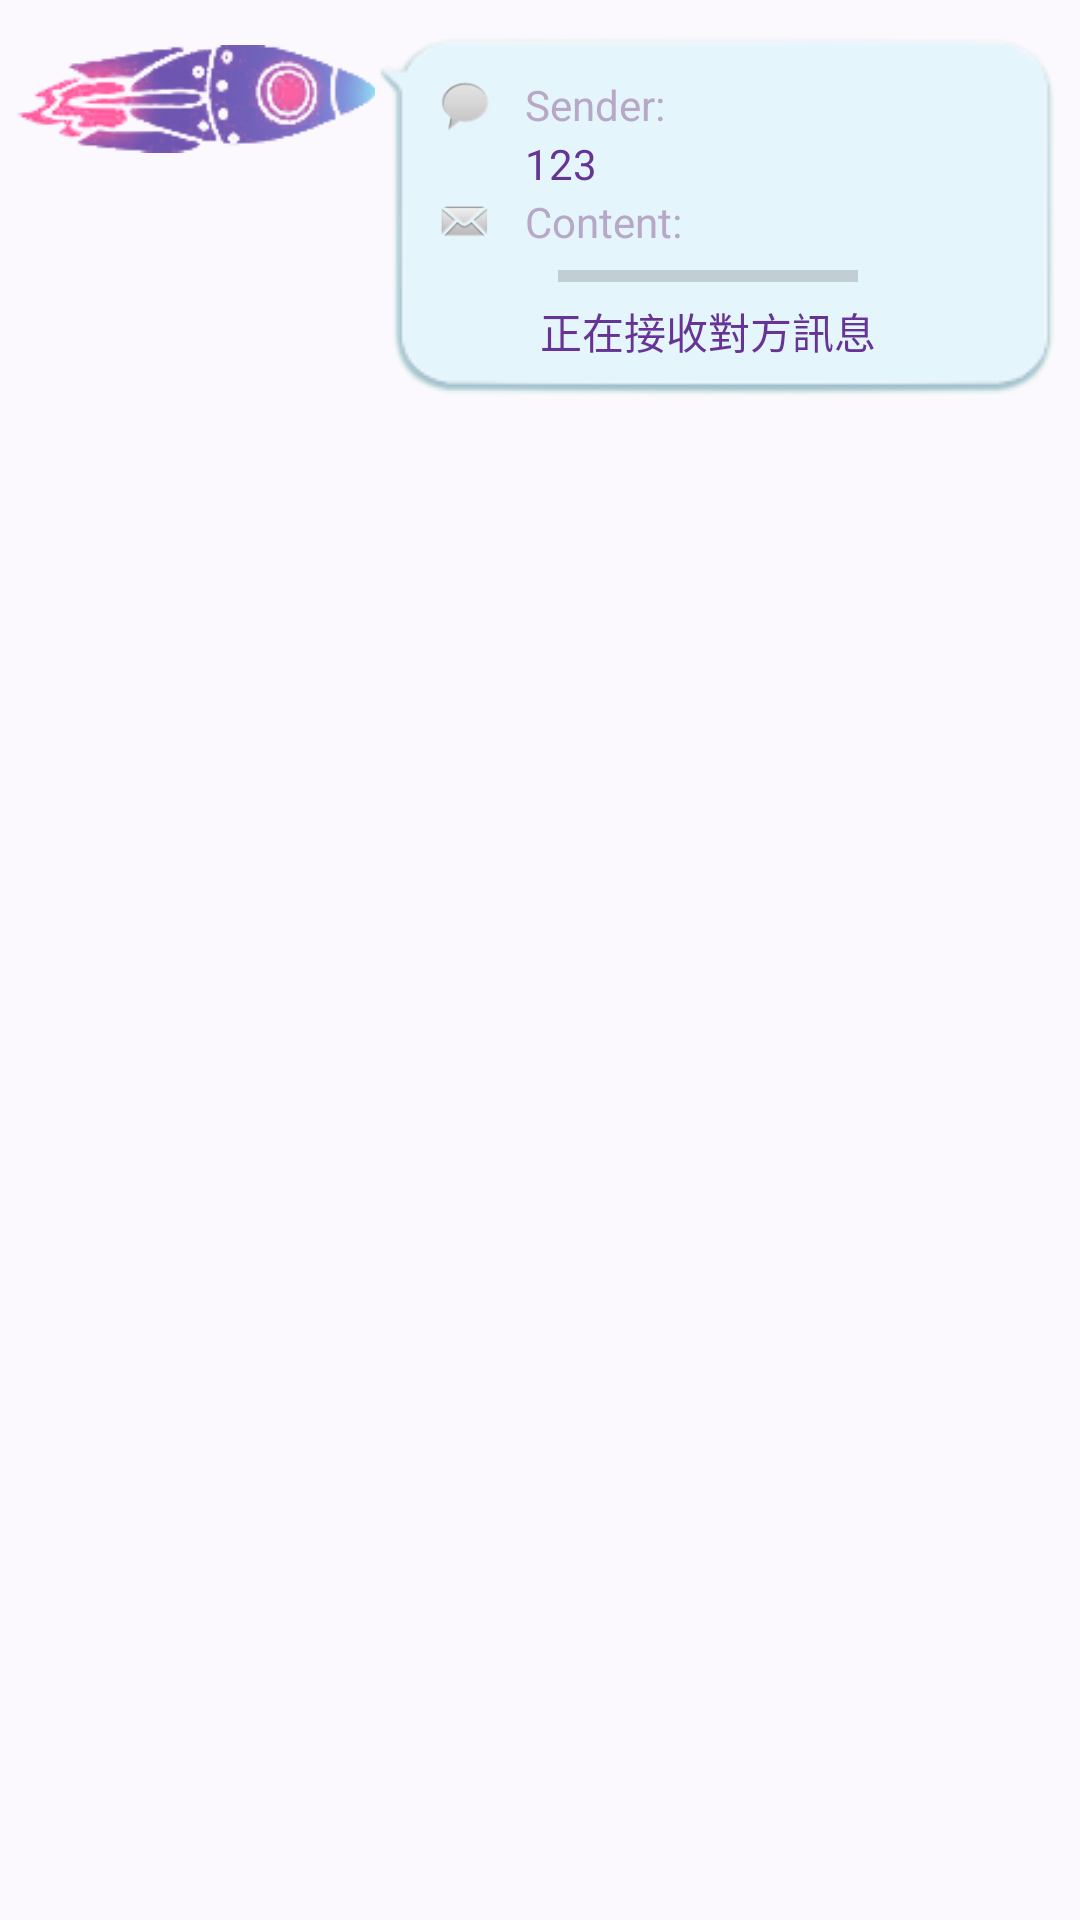

Screen size 1080 x 1920. Icon name, then its box in pixels as (x1, y1, x2, y2):
sym action chat: (442, 83, 487, 130)
sym action email: (442, 206, 487, 236)
